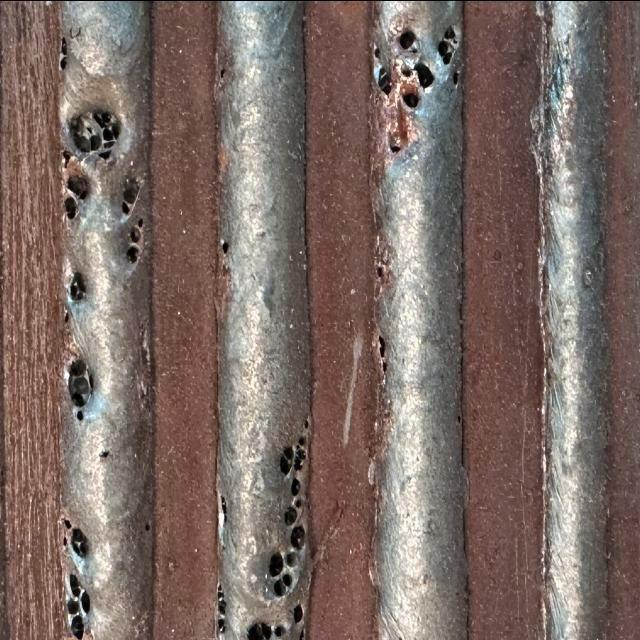Porosity: (62, 517, 91, 638), (68, 110, 120, 158), (68, 358, 92, 405), (438, 25, 458, 63), (121, 177, 140, 215), (66, 173, 88, 198), (216, 583, 226, 638), (69, 270, 86, 302), (415, 62, 434, 87), (280, 445, 294, 473), (269, 552, 284, 575), (378, 67, 391, 92), (64, 195, 78, 218), (291, 525, 305, 548), (59, 37, 68, 70), (402, 92, 419, 108), (248, 622, 263, 640), (400, 30, 415, 48), (284, 505, 298, 524), (295, 447, 306, 470), (126, 245, 138, 263), (260, 623, 272, 640), (274, 578, 286, 595), (286, 552, 298, 567), (221, 493, 227, 523), (130, 227, 141, 242), (291, 477, 300, 495), (62, 150, 71, 167), (294, 603, 302, 622), (274, 625, 285, 637), (379, 335, 385, 357), (282, 573, 291, 587), (221, 240, 229, 253), (401, 67, 411, 77), (76, 410, 84, 420), (452, 72, 459, 83), (390, 145, 401, 152), (376, 265, 382, 277), (382, 359, 387, 372), (100, 450, 109, 457), (299, 435, 305, 445), (375, 47, 380, 58), (295, 499, 301, 507), (138, 218, 142, 227)
